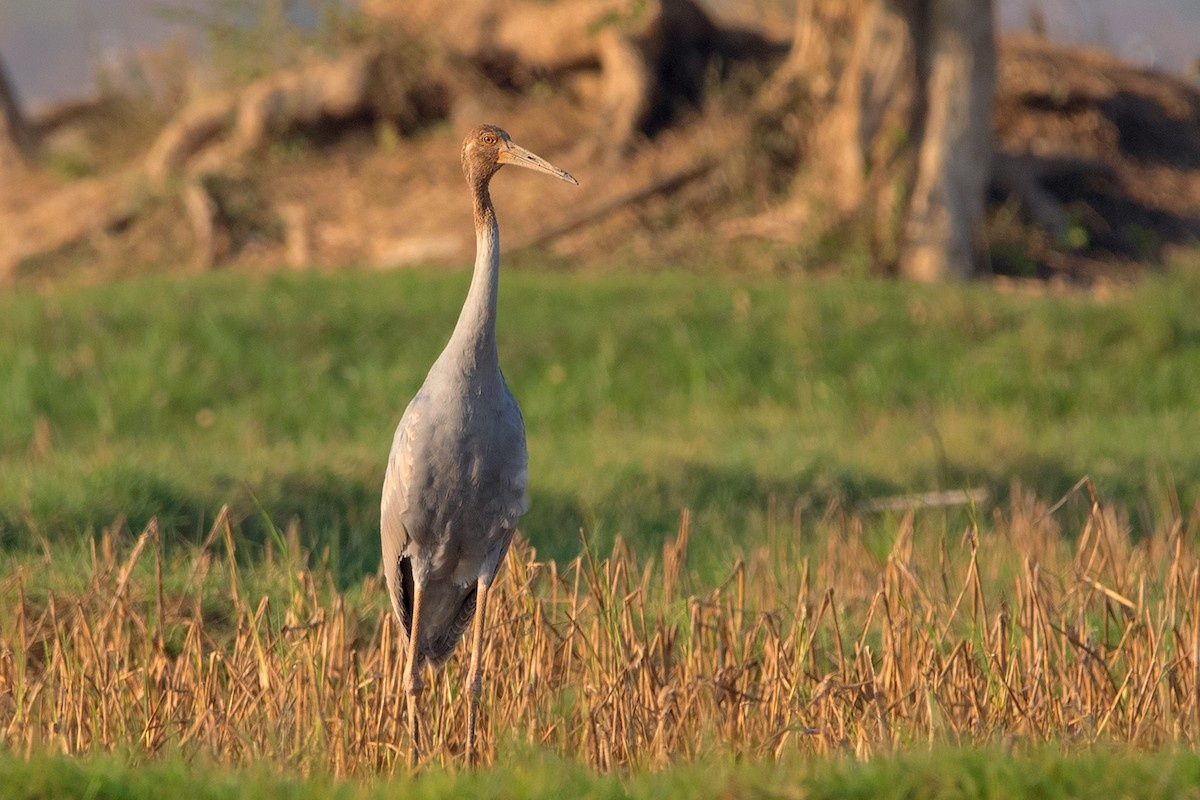crane: (374, 120, 596, 707)
